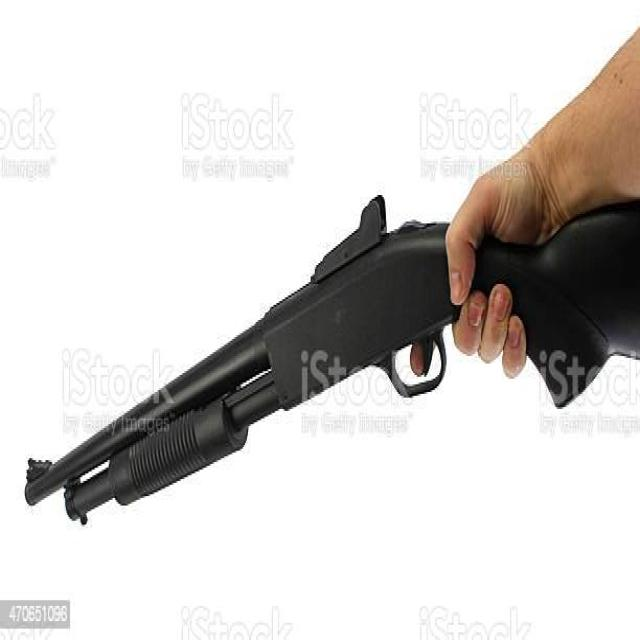ShotGun: (25, 197, 640, 528)
